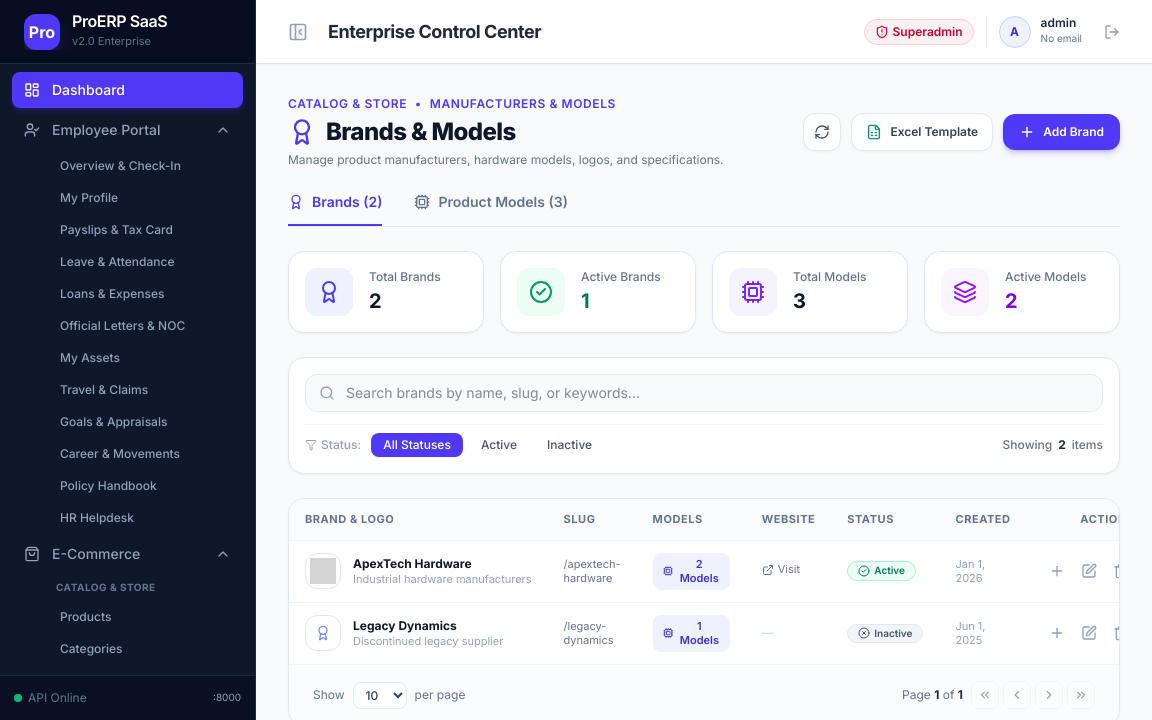
Scenario: Ecommerce Brands & Models In-Place Non-Destructive Filtering Audit › performs in-place search on brands tab without table flicker
// Search for "ApexTech"
Step 1. Type "ApexTech" into the field with placeholder "Search brands by name, slug, or keywords..." → (704,393), box [305,374,1103,412]
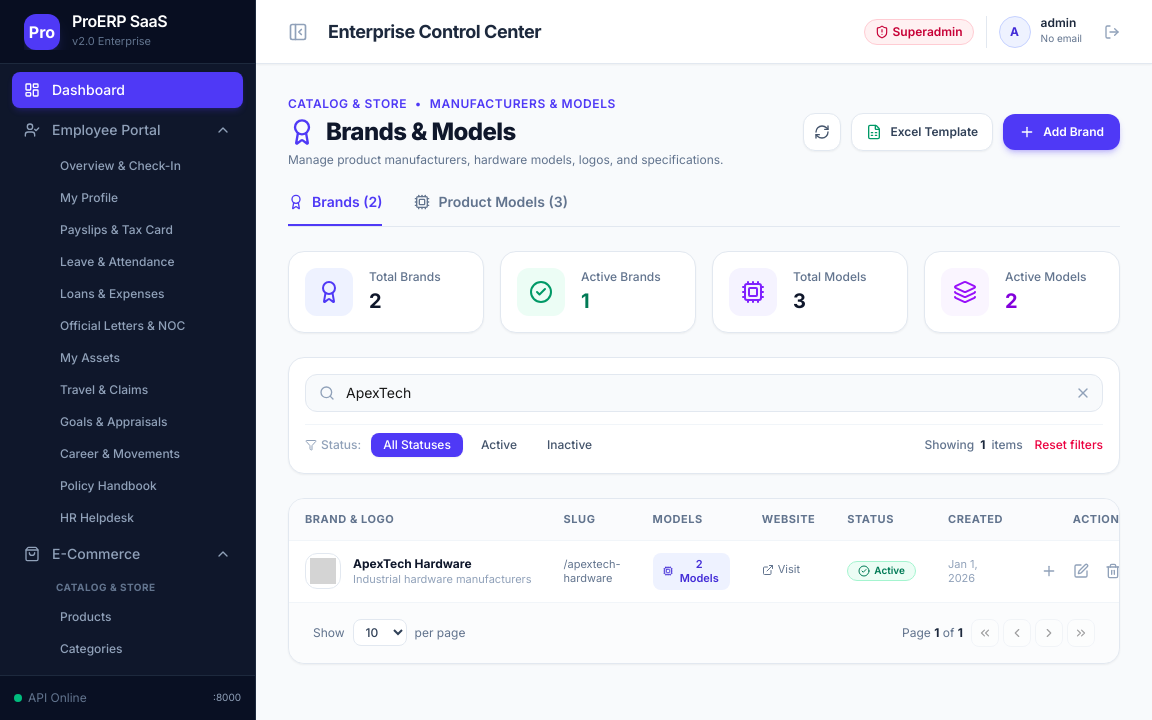
Check: the text "ApexTech Hardware" is shown, box [353,556,472,571]
Check: the text "Legacy Dynamics" is gone
